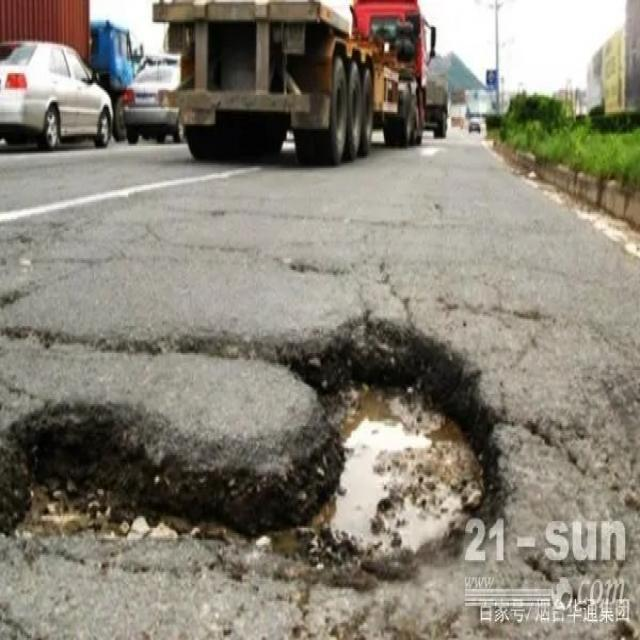Buraco: (0, 312, 518, 598)
